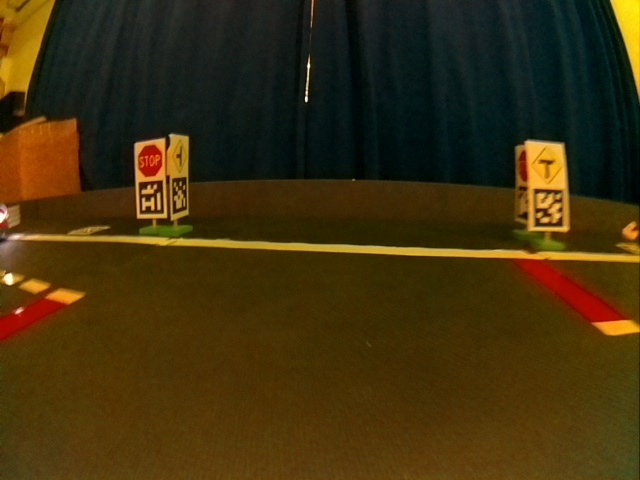Intersection sign: (530, 146, 562, 185), (171, 138, 188, 174)
QR code: (531, 188, 565, 229), (137, 181, 163, 216), (171, 178, 188, 215), (515, 186, 528, 219)
Stop sign: (136, 143, 163, 176), (518, 152, 527, 180)
